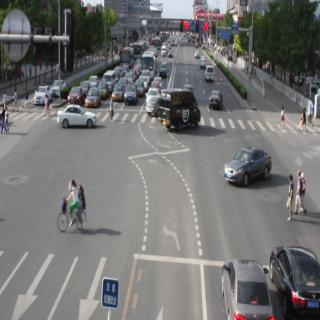BigCar: (143, 45, 156, 78), (120, 43, 135, 69)
Car: (218, 256, 272, 320), (271, 252, 320, 320), (154, 83, 201, 139), (227, 147, 270, 189), (58, 103, 99, 133), (207, 89, 235, 122), (142, 86, 161, 113), (85, 85, 102, 114), (122, 81, 138, 110), (37, 84, 52, 110), (113, 79, 127, 104), (51, 77, 65, 101), (70, 83, 84, 105), (104, 69, 120, 87), (138, 73, 148, 95), (98, 83, 109, 100), (204, 68, 216, 81), (201, 54, 207, 68)
